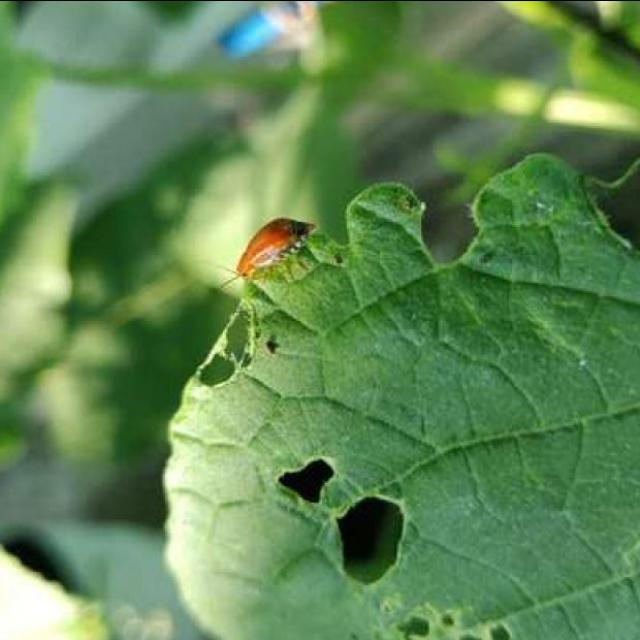Pumpkin Beetle: (206, 215, 323, 289)
